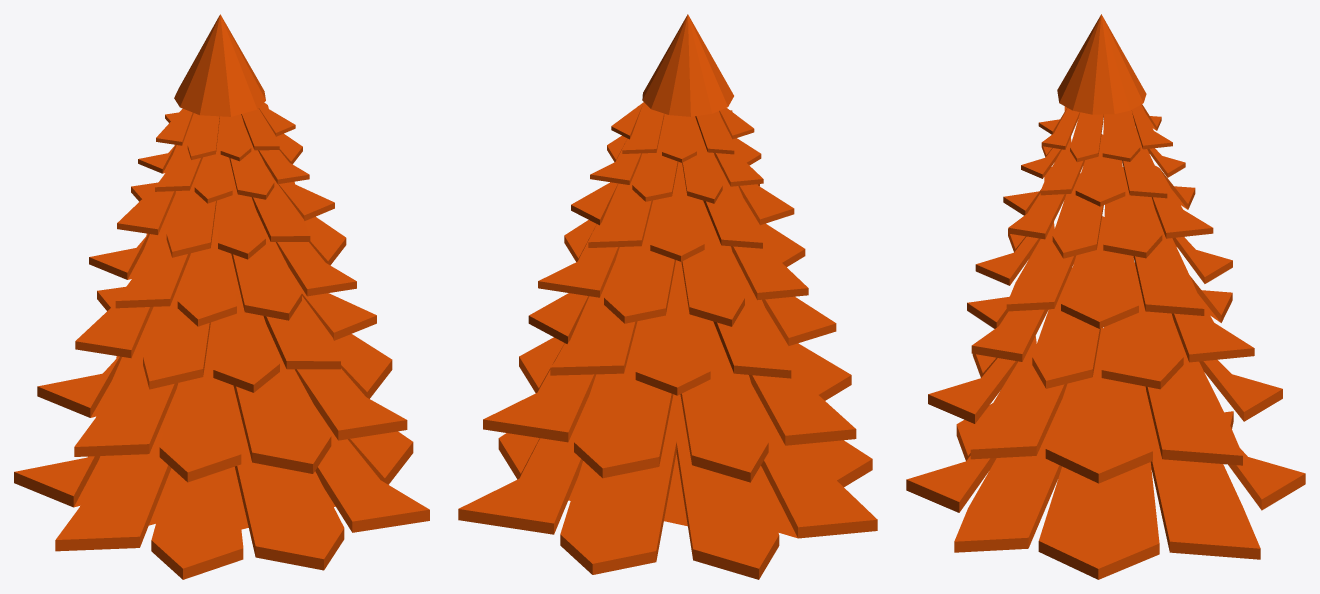
File: tree-autumn-leaves-031.glb
The picture shows the model from 3 angles, left to right: view 1: azimuth 30°, elevation 25°; view 2: azimuth 150°, elevation 25°; view 3: azimuth 270°, elevation 25°; orthographic projection. The views are drawn at different scales.
Parts seen in each view (by area): view 1: Plane.039_365; view 2: Plane.039_365; view 3: Plane.039_365.
Boxes of the visible parts, <box> form: Plane.039_365: <box>14,14,429,579</box>; Plane.039_365: <box>458,14,877,579</box>; Plane.039_365: <box>906,14,1305,579</box>.
Bounding box in the file's own units: 1.47 × 1.84 × 1.4.
